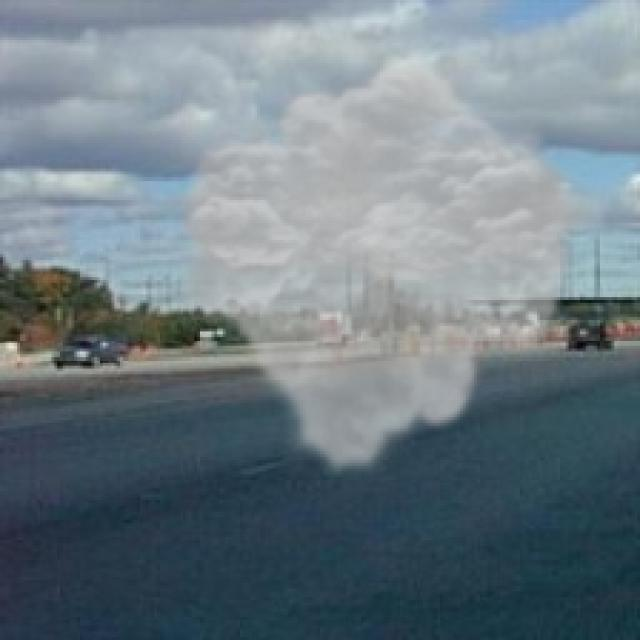smoke: (168, 57, 586, 480)
